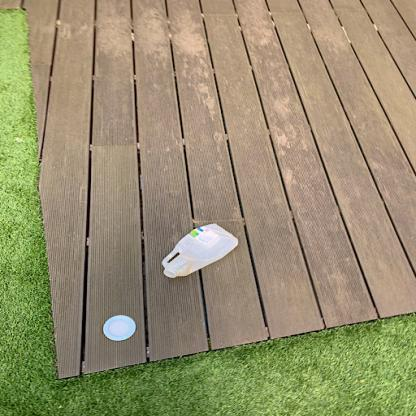trash: (158, 221, 242, 280)
